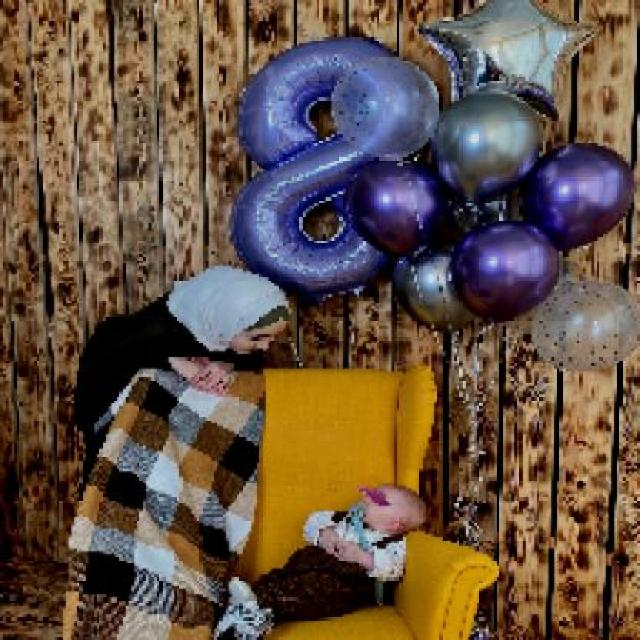child: (223, 482, 432, 638)
